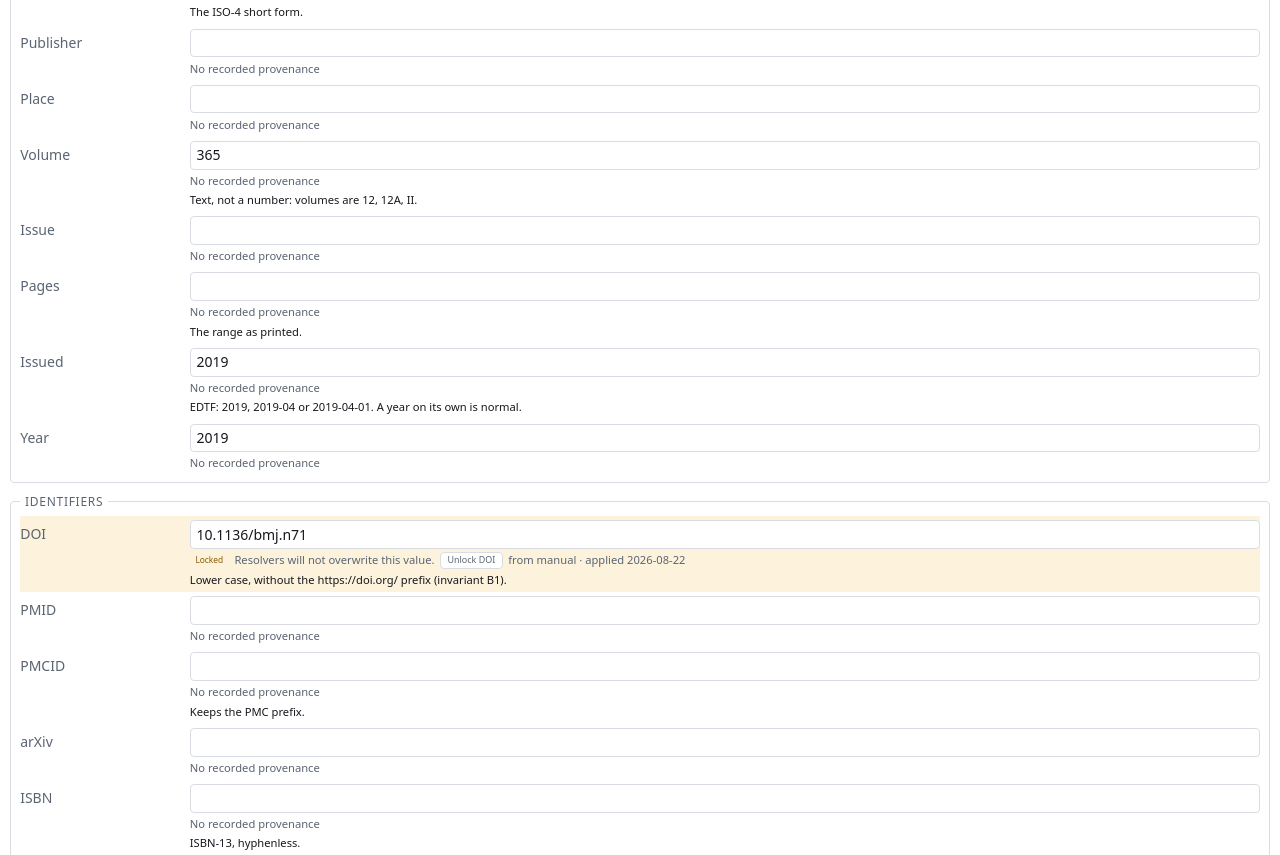
Test case: the item pane › refuses a non-numeric year in the client instead of sending it
(page scrolled)
Replace the text in the field labelled "Year" with "nineteen" at (725, 438), box [190,424,1260,452]
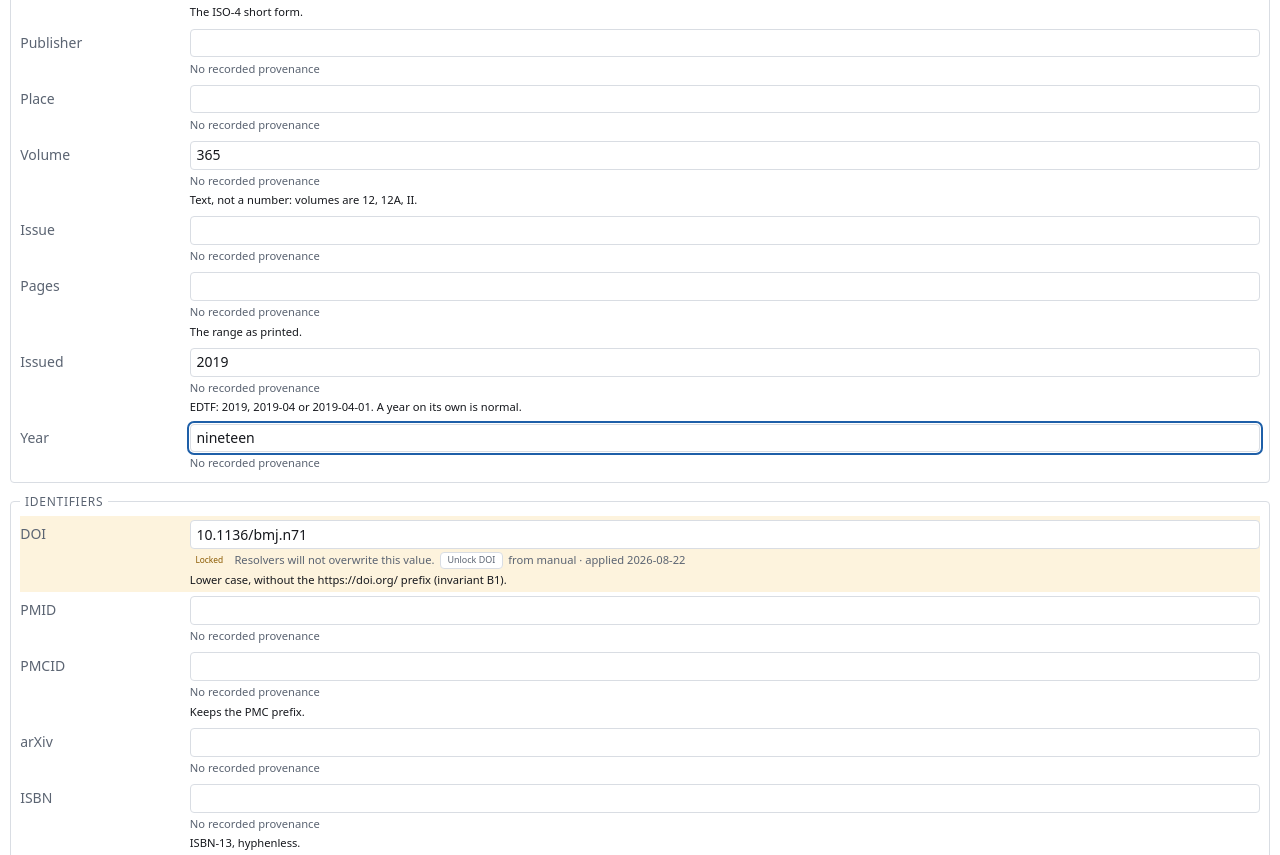
Press Tab
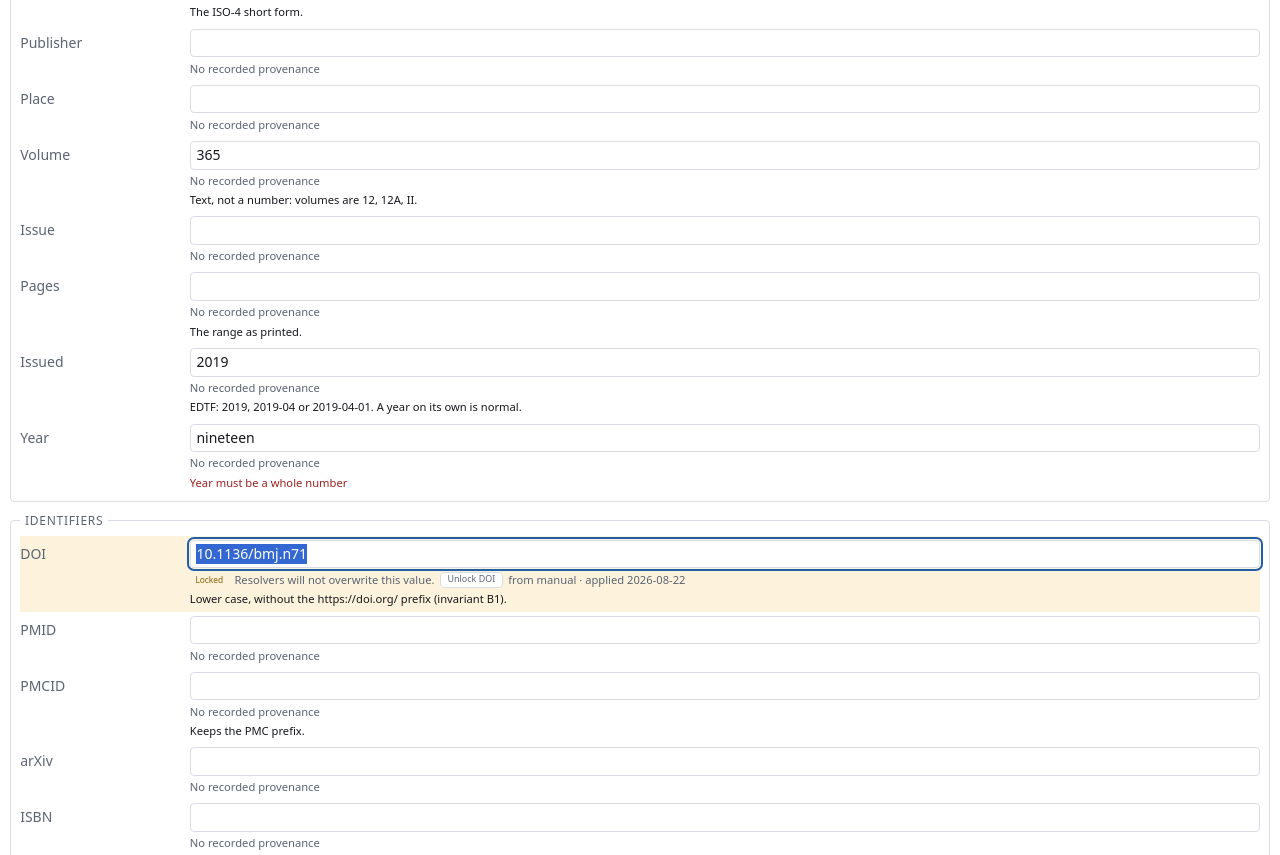
expect the text "Year must be a whole number" is shown: met, box [190,475,347,490]
